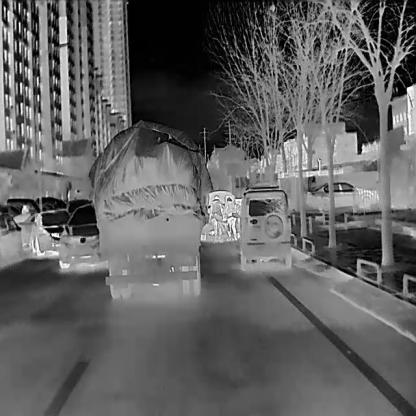car: (57, 202, 108, 268), (305, 180, 379, 213), (27, 210, 70, 255), (0, 212, 20, 267), (207, 194, 228, 242), (222, 194, 238, 238), (5, 197, 39, 214), (36, 194, 66, 209)
truck: (86, 119, 212, 298)
